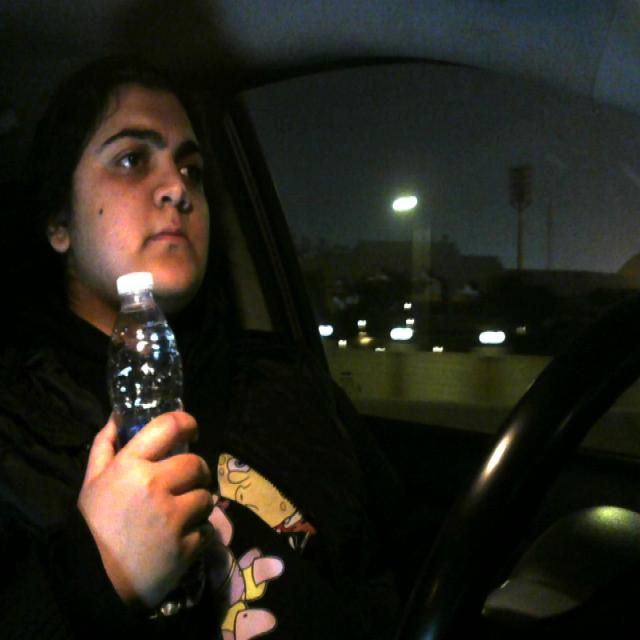drinking: (113, 258, 213, 602)
